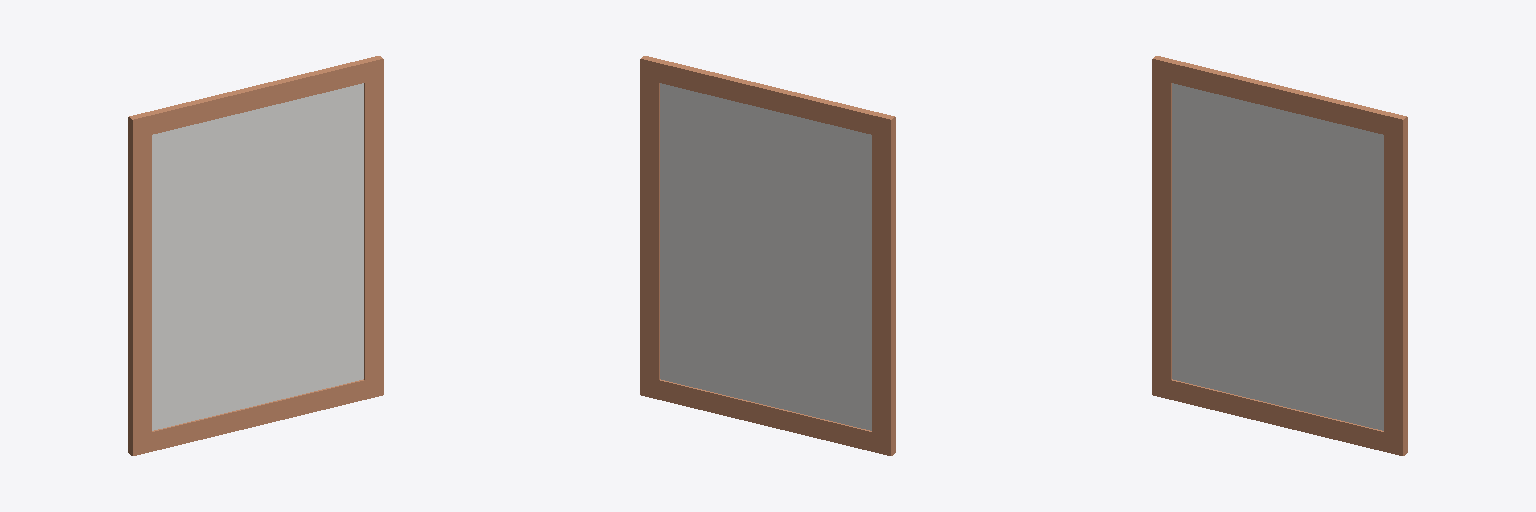
The model's file is Painting_01.obj.
3 renders of one model, left to right at view 1: azimuth 30°, elevation 25°; view 2: azimuth 150°, elevation 25°; view 3: azimuth 330°, elevation 25°, orthographic.
Parts seen in each view (by area): view 1: object_1, object_2; view 2: object_1, object_2; view 3: object_1, object_2.
Part boxes in pixels (bbox=[...]): object_1: bbox=[152, 83, 363, 430]; object_2: bbox=[128, 56, 383, 455]; object_1: bbox=[660, 83, 871, 430]; object_2: bbox=[640, 56, 895, 455]; object_1: bbox=[1172, 83, 1383, 430]; object_2: bbox=[1152, 56, 1407, 455].
Size of the model in its own units: 66.58 by 85.44 by 2.